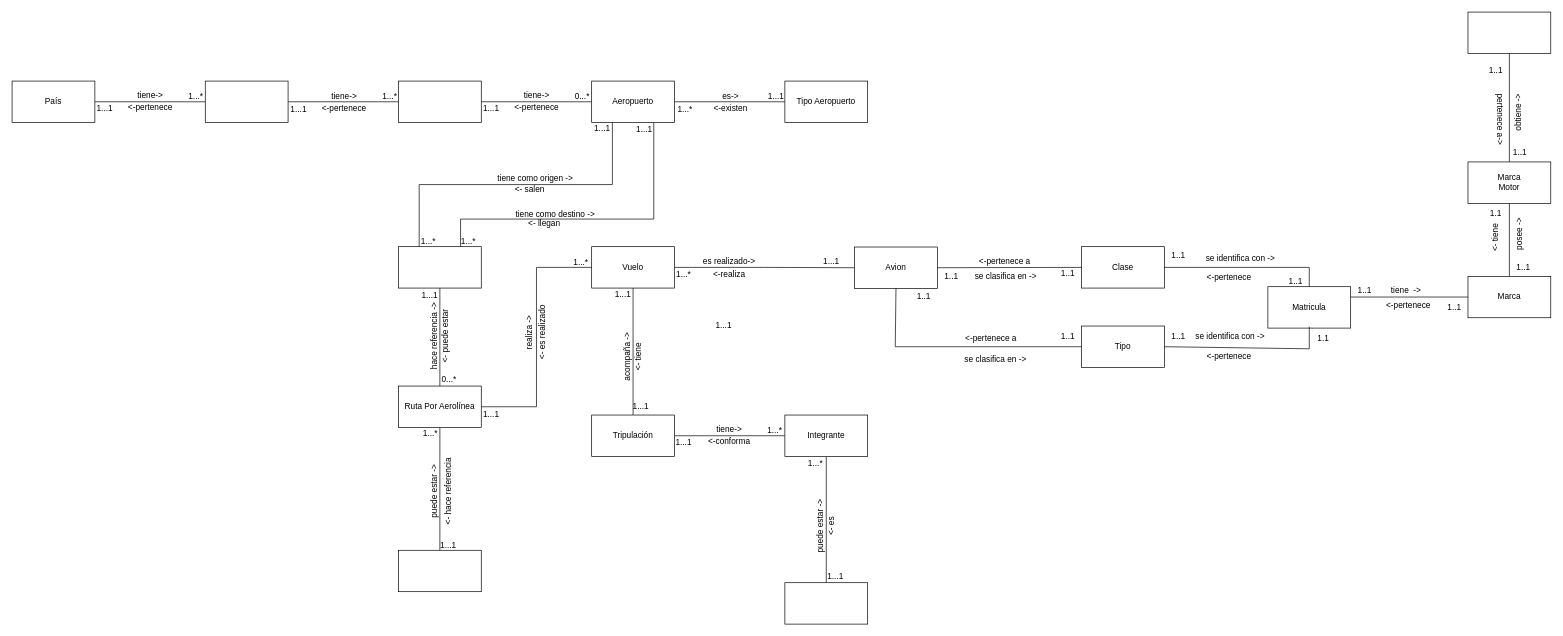
Some shapes in this 1563 by 636 pixel diagram are drawn without their labels. The centre of each missing label's shape, as x and y in pixels:
"Aerolínea" belongs at pixel 439 571.
"Ciudad" belongs at pixel 439 101.
"Departamento" belongs at pixel 246 101.
"Horsepower" belongs at pixel 1509 32.
"Ruta" belongs at pixel 439 267.
"Tipo Integrante" belongs at pixel 826 603.
